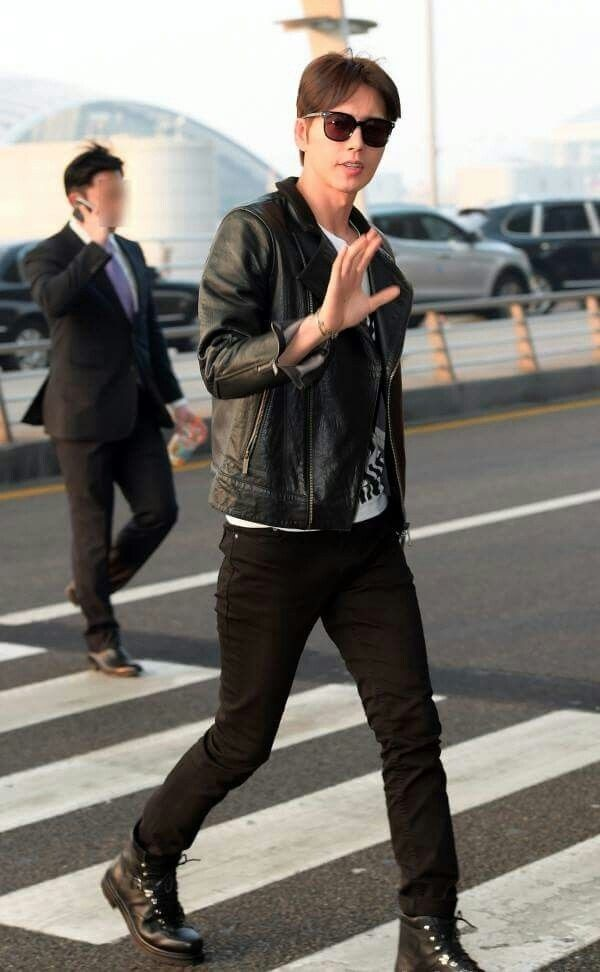face_no_mask: (295, 69, 390, 200)
